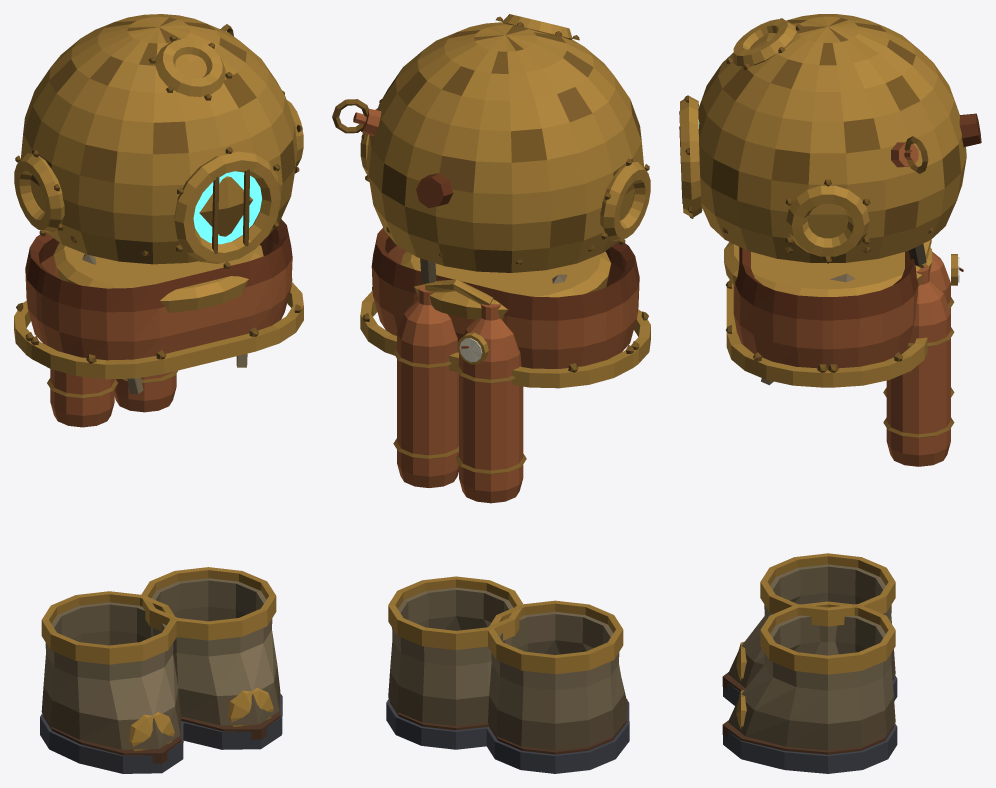
The model's file is divingsuit.glb.
The picture shows the model from 3 angles, left to right: view 1: azimuth 30°, elevation 25°; view 2: azimuth 150°, elevation 25°; view 3: azimuth 270°, elevation 25°; orthographic projection.
Visible parts, largest first — view 1: DivingSuit, DivingSuit_corselet, DivingSuit_bootR, DivingSuit_bootL, DivingSuit_tank; view 2: DivingSuit, DivingSuit_corselet, DivingSuit_tank, DivingSuit_bootR, DivingSuit_bootL; view 3: DivingSuit, DivingSuit_corselet, DivingSuit_bootL, DivingSuit_tank, DivingSuit_bootR.
Boxes of the visible parts, x1,y1,x2,y2 form: DivingSuit: (14,14,303,268); DivingSuit_corselet: (14,219,303,379); DivingSuit_bootR: (40,591,183,773); DivingSuit_bootL: (141,567,282,749); DivingSuit_tank: (47,254,247,427); DivingSuit: (332,14,650,272); DivingSuit_corselet: (360,227,650,388); DivingSuit_tank: (393,258,567,503); DivingSuit_bootR: (486,600,629,773); DivingSuit_bootL: (386,576,523,749); DivingSuit: (679,14,981,263); DivingSuit_corselet: (724,242,931,387); DivingSuit_bootL: (722,601,897,773); DivingSuit_tank: (761,239,963,466); DivingSuit_bootR: (722,553,897,705).
Size of the model in its own units: 0.8451 by 2.16 by 0.8488.
